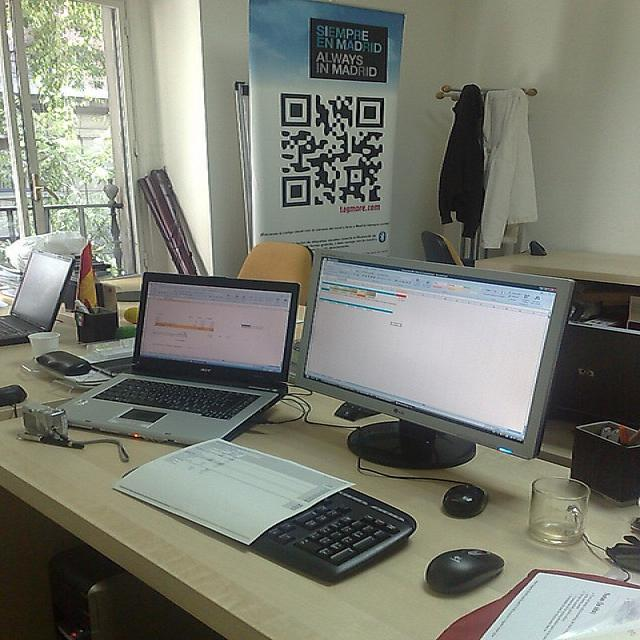qrcode: (282, 94, 384, 207)
